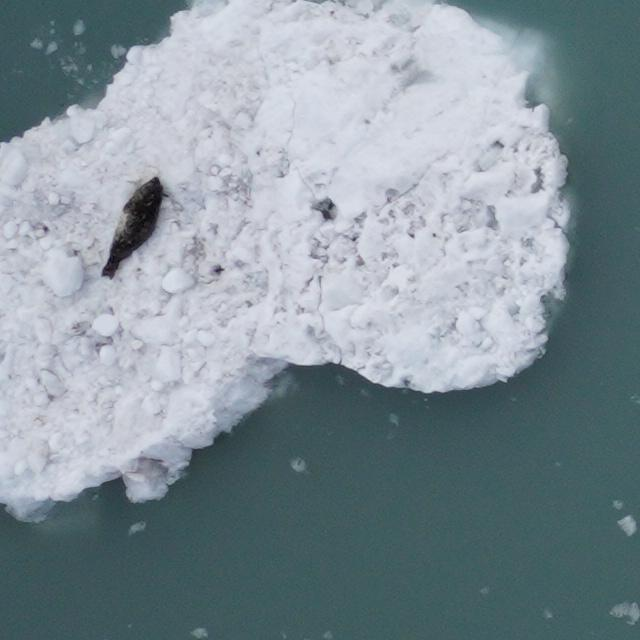seal: (97, 171, 169, 283)
